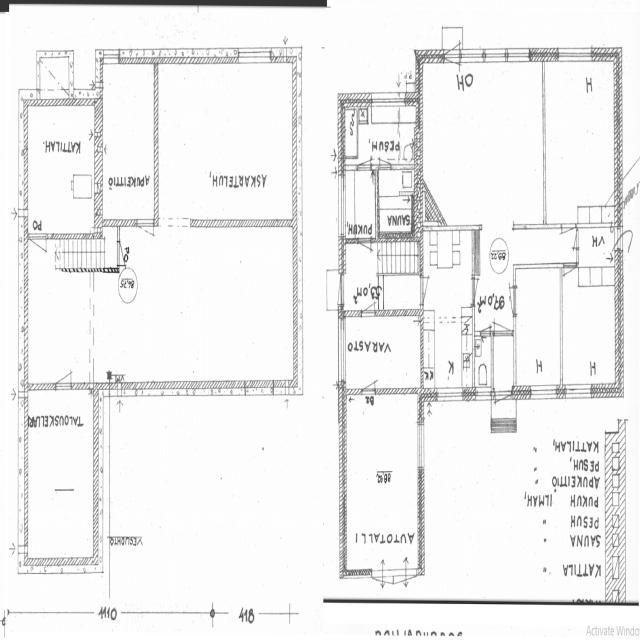door: (135, 192, 156, 235), (53, 360, 74, 393), (493, 387, 513, 420), (560, 224, 579, 256), (444, 36, 462, 68), (508, 280, 522, 318)
window: (237, 44, 273, 68), (335, 314, 347, 386), (556, 44, 593, 65), (369, 91, 406, 109), (564, 383, 593, 403), (482, 45, 509, 66), (416, 419, 426, 473), (529, 384, 559, 402), (437, 388, 466, 406)
zone: (158, 60, 296, 227), (419, 57, 542, 226), (344, 393, 422, 574), (23, 390, 97, 568), (544, 58, 616, 228), (23, 102, 99, 238), (101, 60, 156, 226), (422, 225, 475, 395), (23, 268, 95, 390), (560, 267, 618, 394), (341, 313, 422, 393), (514, 263, 562, 394), (345, 102, 417, 169), (473, 227, 515, 336), (379, 237, 422, 313), (342, 239, 381, 315), (342, 166, 378, 242), (377, 166, 414, 237), (286, 549, 324, 618), (576, 222, 617, 279), (491, 329, 516, 398), (71, 49, 102, 94), (474, 336, 494, 396)
